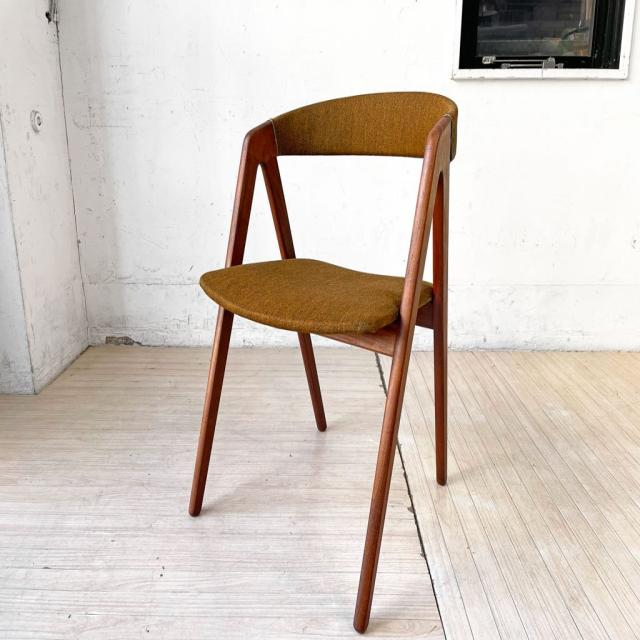chair vintage: (186, 88, 460, 640)
